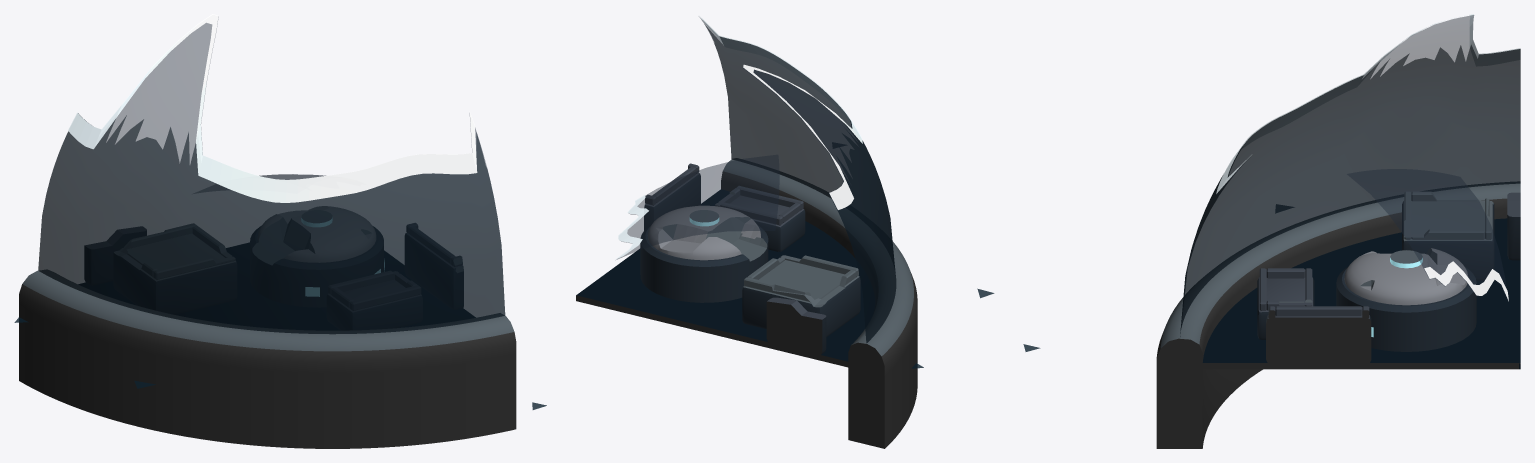
File: glass_city_bl_wreck.glb
3 renders of one model, left to right at view 1: azimuth 30°, elevation 25°; view 2: azimuth 150°, elevation 25°; view 3: azimuth 270°, elevation 25°, orthographic. The views are drawn at different scales.
Visible parts, largest first — view 1: glassshell.001, collar.001, glassshell_d_edge.001, b9.001, floor.001, hall.001, hall_dome.001, b14.001, b12.001, b8.001, b14_rim_s.001, b9_rim_s.001 (+2 smaller); view 2: glassshell.001, collar.001, floor.001, glassshell_fallen1.001, hall.001, b9.001, hall_dome.001, b8.001, glassshell_d_edge.001, b14.001, b12.001, b9_rim_n.001 (+6 smaller); view 3: glassshell.001, collar.001, floor.001, glassshell_fallen1.001, hall.001, b12.001, hall_dome.001, b9.001, glassshell_d_edge.001, b14.001, b8.001, glassshell_e_fallen1.001 (+3 smaller).
Part boxes in pixels (box(x1,y1,x2,y2)): glassshell.001: box(38, 17, 505, 334); collar.001: box(19, 270, 516, 448); glassshell_d_edge.001: box(68, 14, 477, 202); b9.001: box(113, 234, 236, 314); floor.001: box(79, 243, 475, 330); hall.001: box(250, 226, 383, 307); hall_dome.001: box(258, 206, 375, 262); b14.001: box(327, 279, 422, 330); b12.001: box(405, 233, 463, 309); b8.001: box(84, 226, 146, 285); b14_rim_s.001: box(350, 285, 420, 310); b9_rim_s.001: box(154, 257, 235, 279); glassshell.001: box(700, 18, 896, 343); collar.001: box(721, 158, 917, 448); floor.001: box(576, 189, 874, 367); glassshell_fallen1.001: box(617, 155, 779, 259); hall.001: box(640, 225, 768, 302); b9.001: box(742, 260, 860, 336); hall_dome.001: box(647, 205, 760, 260); b8.001: box(766, 297, 826, 354); glassshell_d_edge.001: box(699, 16, 862, 209); b14.001: box(730, 195, 805, 251); b12.001: box(644, 173, 700, 230); b9_rim_n.001: box(744, 277, 814, 302); glassshell.001: box(1180, 15, 1520, 336); collar.001: box(1156, 181, 1520, 448); floor.001: box(1200, 218, 1520, 369); glassshell_fallen1.001: box(1347, 169, 1507, 299); hall.001: box(1336, 253, 1476, 351); b12.001: box(1266, 315, 1371, 363); hall_dome.001: box(1344, 248, 1468, 305); b9.001: box(1402, 200, 1494, 280); glassshell_d_edge.001: box(1216, 14, 1520, 193); b14.001: box(1257, 277, 1314, 339); b8.001: box(1507, 192, 1520, 260); glassshell_e_fallen1.001: box(1424, 261, 1508, 301).
Bounding box in the file's own units: 19.08 × 17.97 × 22.67.
